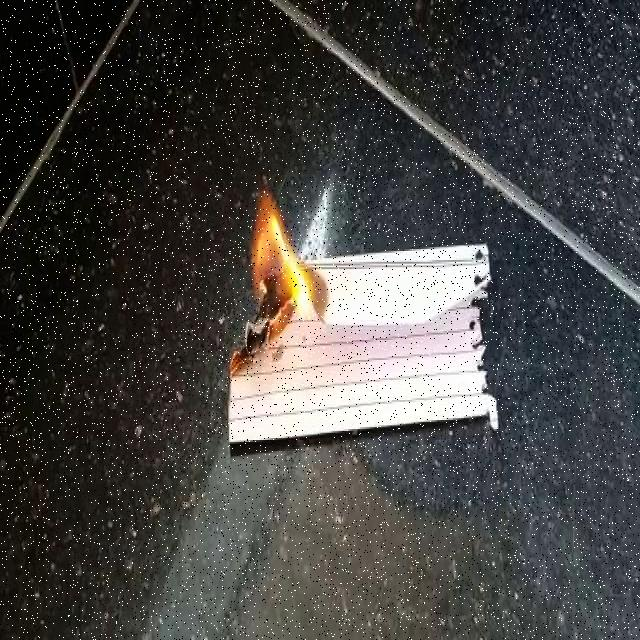fire: (228, 184, 328, 345)
